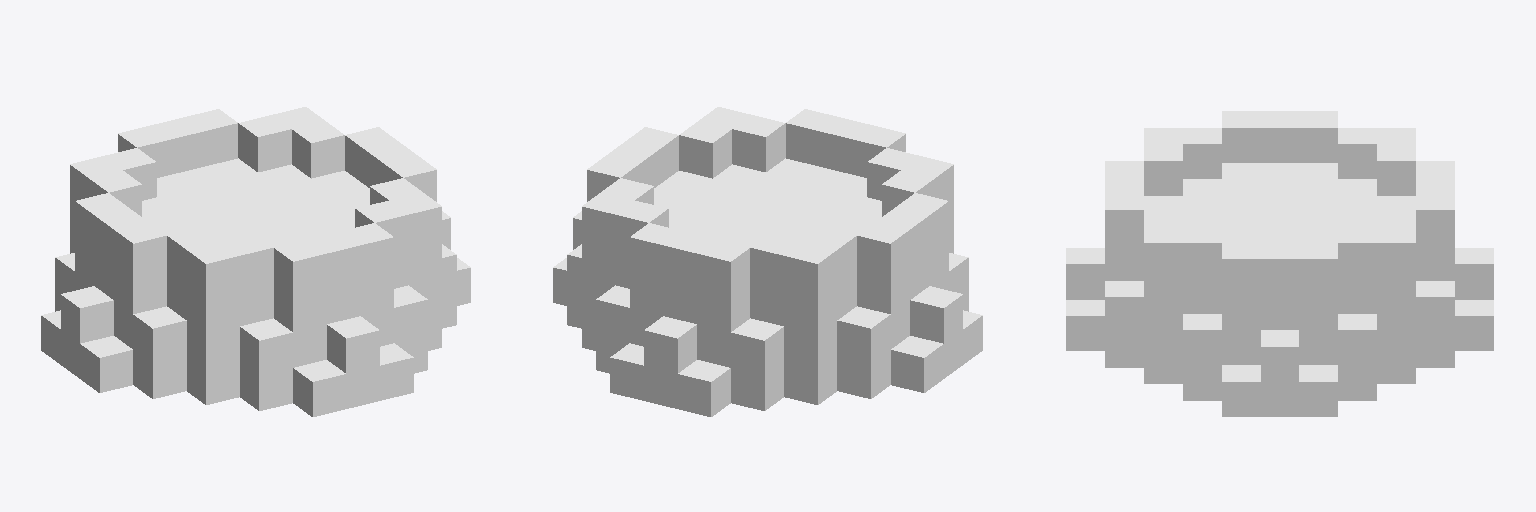
Rendered from tree_stump.obj.
The picture shows the model from 3 angles: view 1: azimuth 30°, elevation 25°; view 2: azimuth 150°, elevation 25°; view 3: azimuth 270°, elevation 25°; orthographic projection.
Visible parts, largest first — view 1: object 1; view 2: object 1; view 3: object 1.
Boxes of the visible parts, box(x1,y1,x2,y2) form: object 1: box(41, 107, 470, 416); object 1: box(553, 107, 982, 416); object 1: box(1066, 111, 1493, 416).
Size of the model in its own units: 1.1 by 0.4 by 1.1.